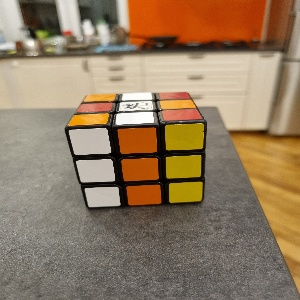cube: (65, 91, 208, 208)
